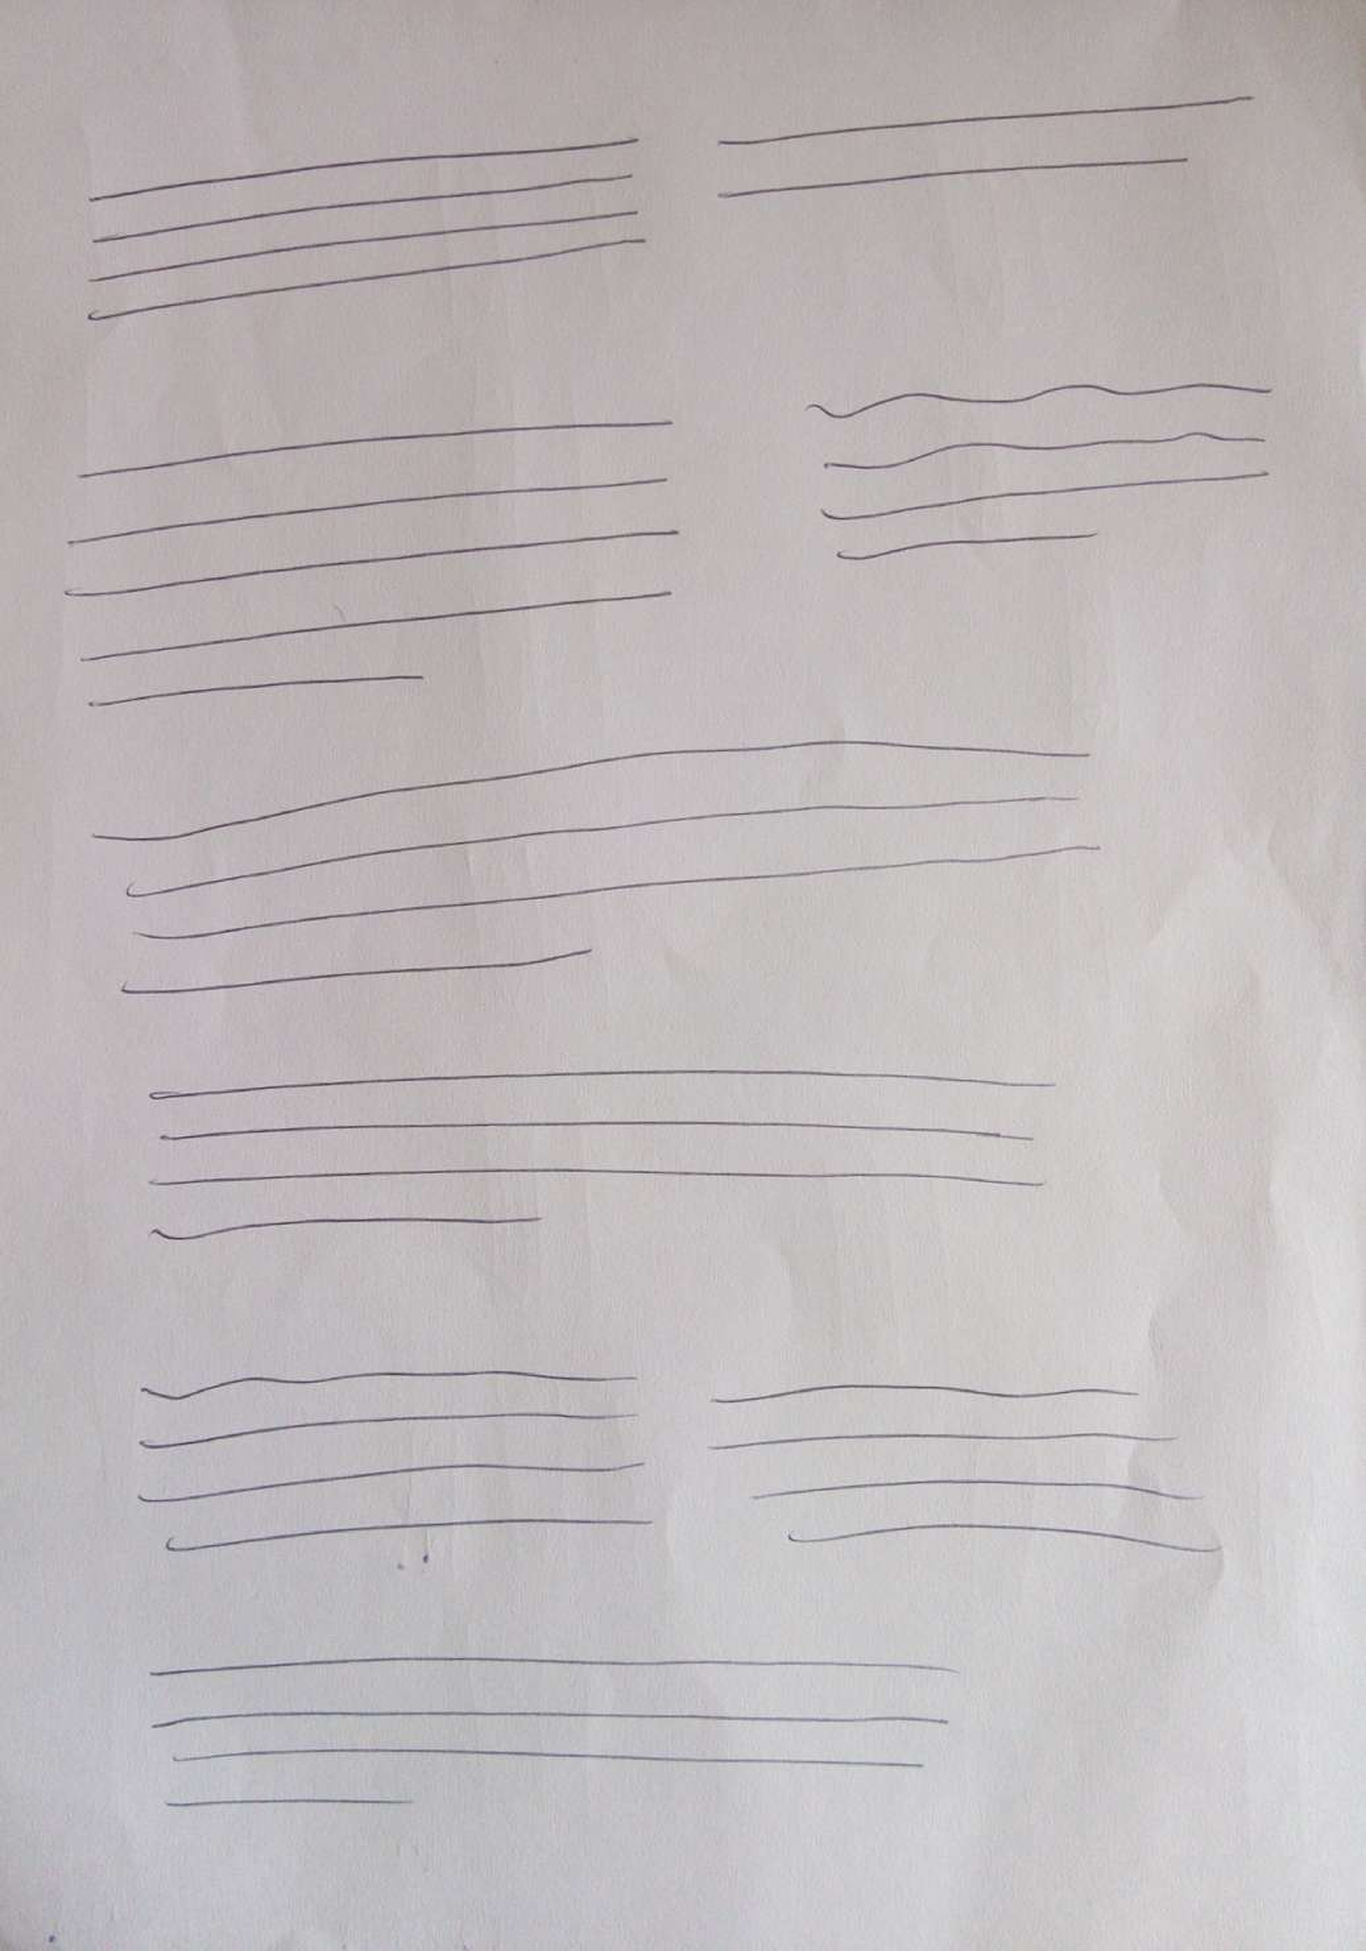Paragraph: (95, 738, 1115, 1002), (62, 420, 685, 713), (136, 1063, 1060, 1242), (148, 1654, 970, 1812), (85, 133, 650, 328), (131, 1362, 670, 1557), (699, 1371, 1213, 1563), (799, 380, 1276, 563), (712, 93, 1265, 203)
